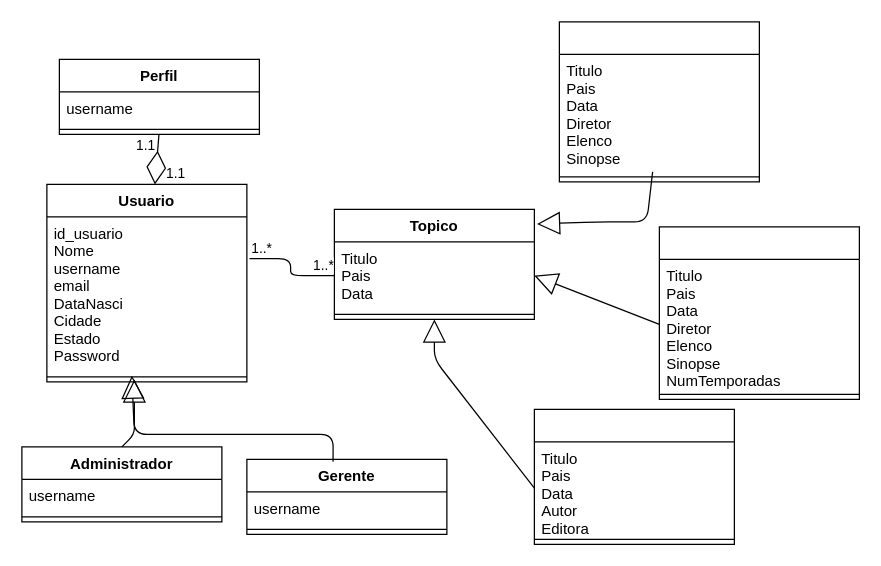
The diagram is 881 pixels wide and 566 high, and some of its shapes have lost their labels. Each missing label, with the box of its shape:
Filme: (558, 21, 759, 182)
Livro: (533, 408, 734, 544)
Serie: (658, 226, 859, 399)
